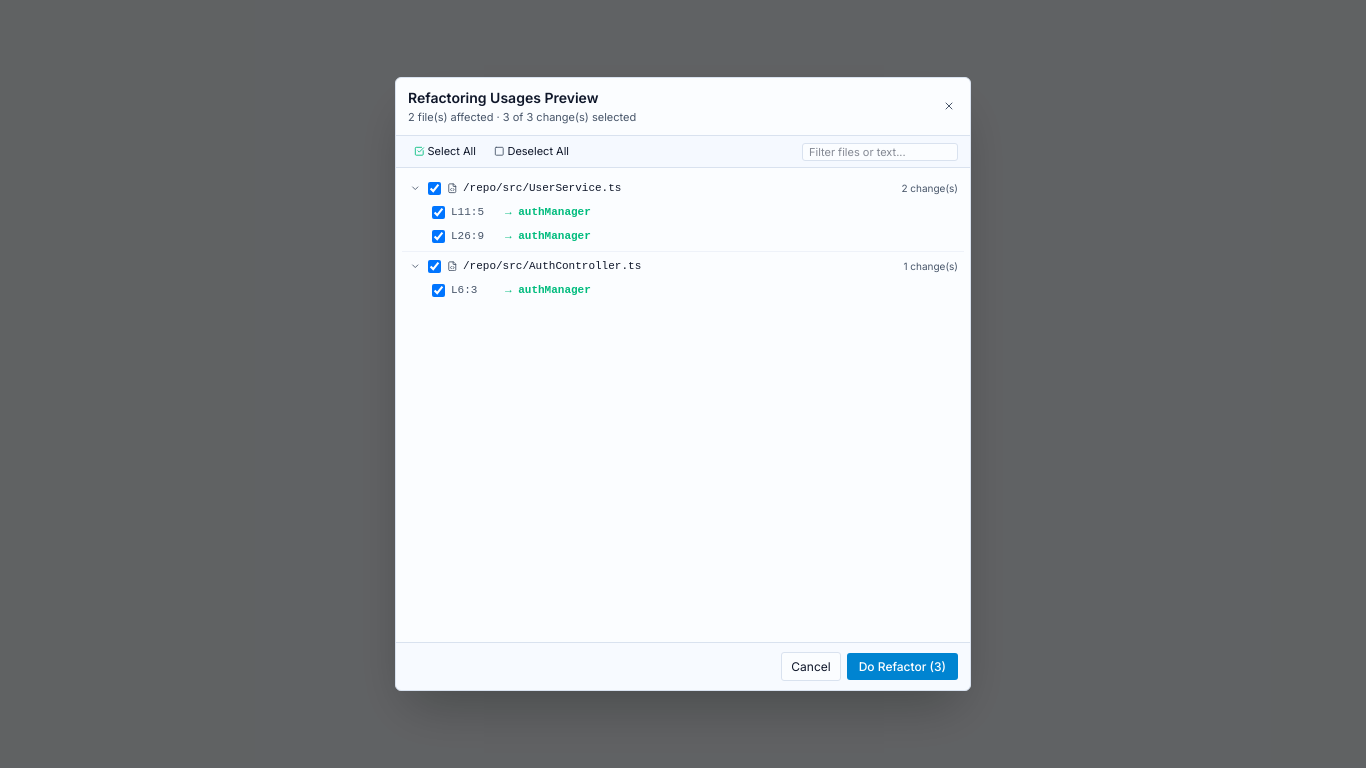
Test: RefactoringPreviewDialog › supports Select All and Deselect All
The image size is (1366, 768).
What coordinates should you click on to do the following:
click the button with test id "refactoring-preview-select-none"
I would click on:
 (532, 152)
Its box is [488,142,575,161].
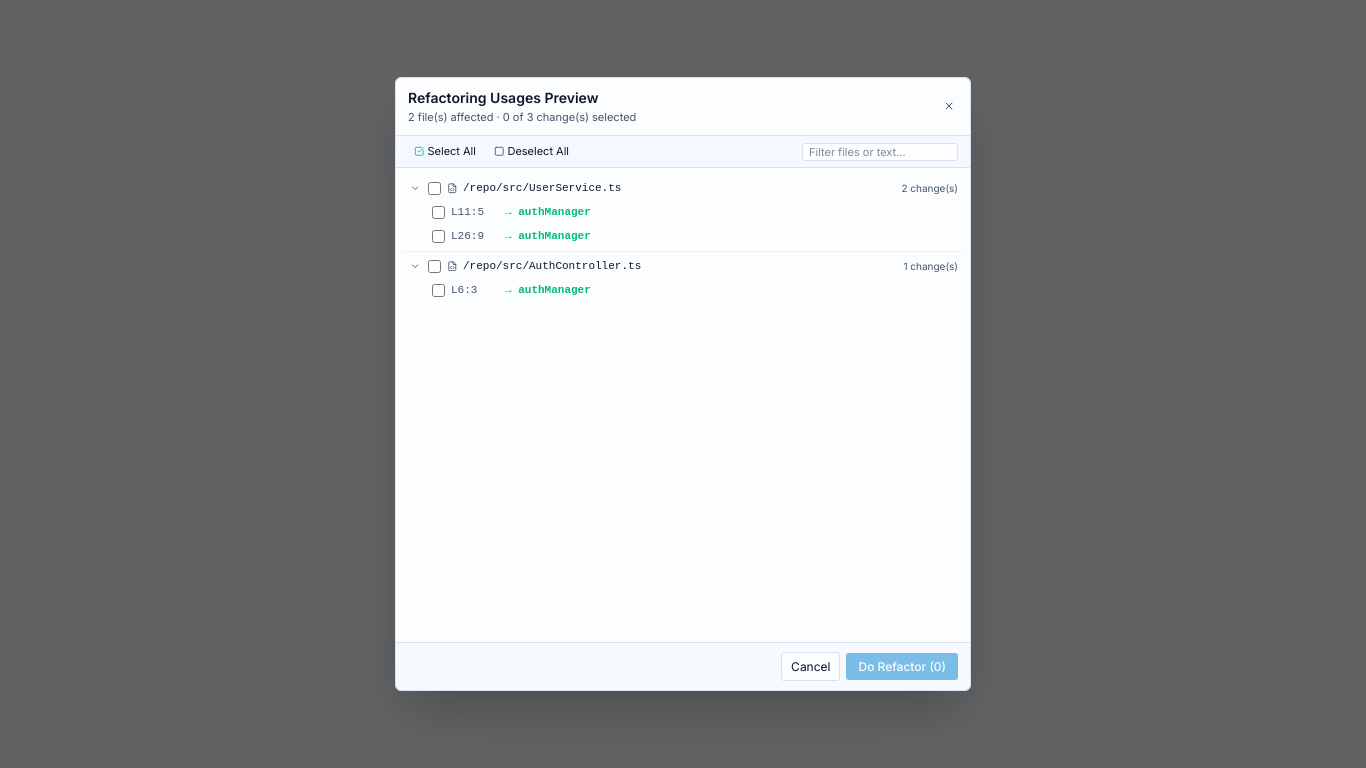
Expected: the text "2 file(s) affected · 0 of 3 change(s) selected" is shown, [408,109,636,126]
Expected: the button with test id "refactoring-preview-apply" is disabled, [846,653,958,680]
What coordinates should you click on to do the following:
click the button with test id "refactoring-preview-select-all"
I would click on:
 (445, 152)
Its box is [408,142,482,161].
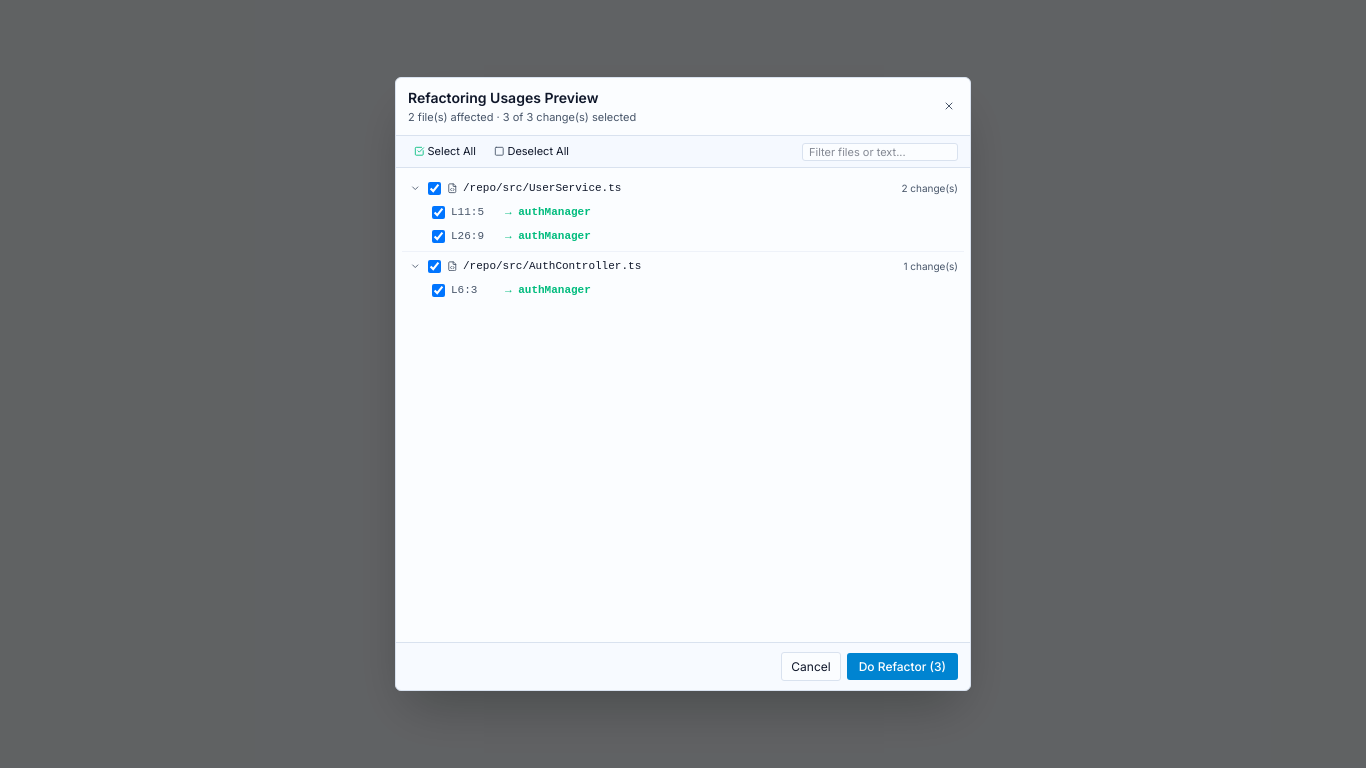
Expected: the text "2 file(s) affected · 3 of 3 change(s) selected" is shown, [408,109,636,126]
Expected: the button with test id "refactoring-preview-apply" is enabled, [847,653,958,680]
